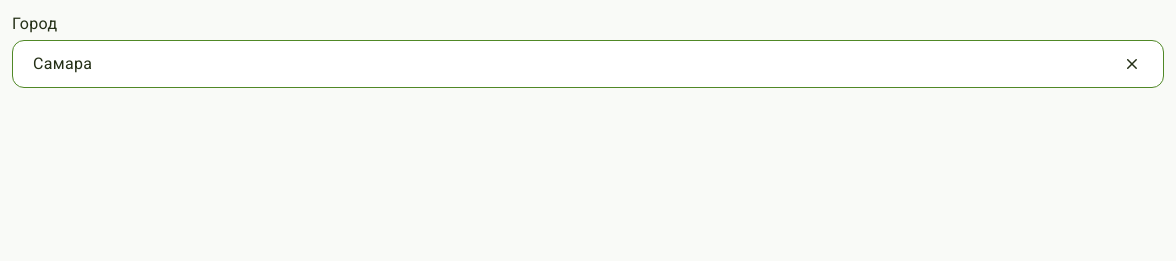
Test: Select › очищает запрос и выбранный город кнопкой справа
This screenshot has width=1176, height=261.
Click the button named "Очистить": (1132, 64) [1120, 52, 1144, 76]
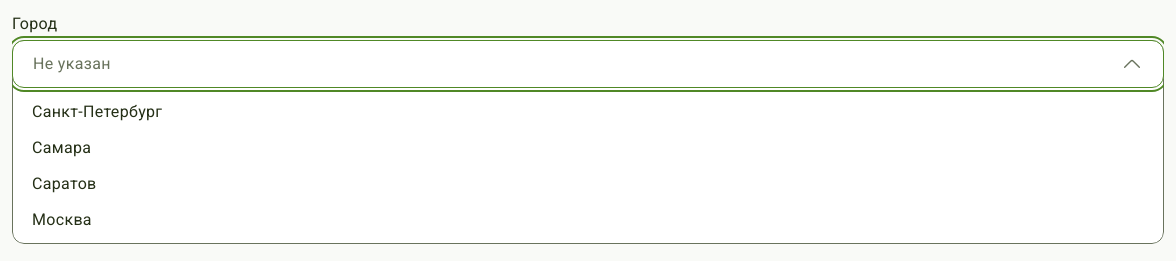
Now the dropdown is empty, box [12, 40, 1164, 88]
Now the number of options is 4, box [32, 102, 162, 121]; [32, 138, 91, 157]; [32, 174, 97, 193]; [32, 210, 92, 229]
